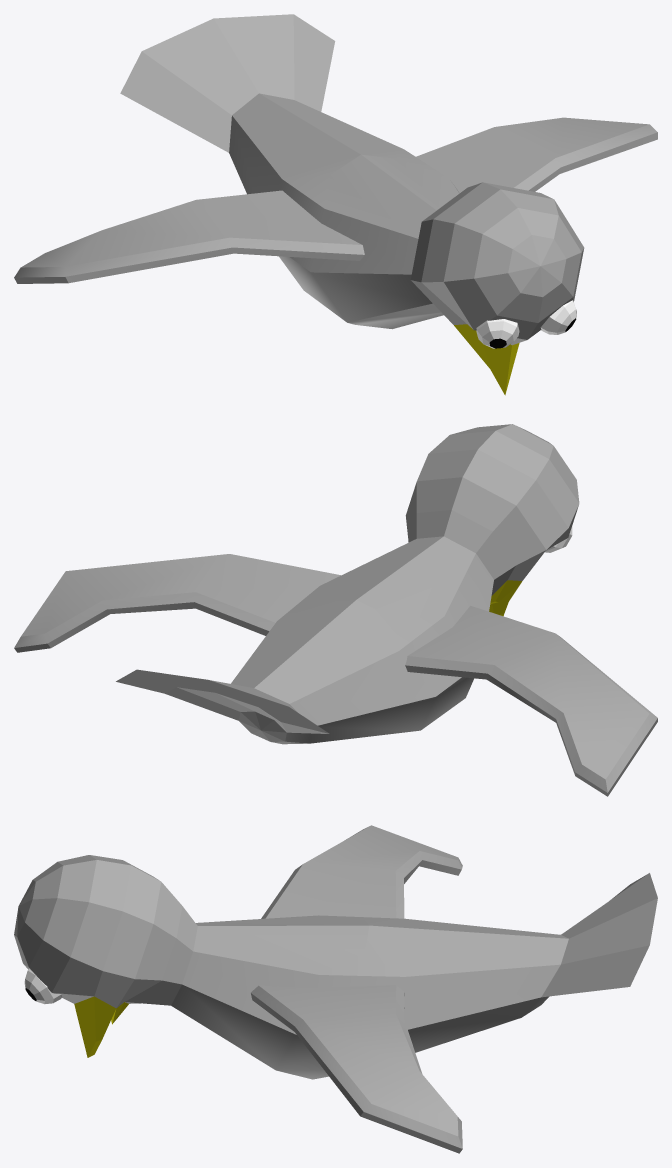
Rendered from Bird_1.fbx.
3 views of the same model, one above another, from view 1: azimuth 30°, elevation 25°; view 2: azimuth 150°, elevation 25°; view 3: azimuth 270°, elevation 25° (orthographic). The views are drawn at different scales.
Parts seen in each view (by area): view 1: Bird; view 2: Bird; view 3: Bird.
Part boxes in pixels (<box>): Bird: <box>14,14,657,395</box>; Bird: <box>14,424,657,796</box>; Bird: <box>14,825,657,1153</box>.
Size of the model in its own units: 4.93 by 1.74 by 4.74.
